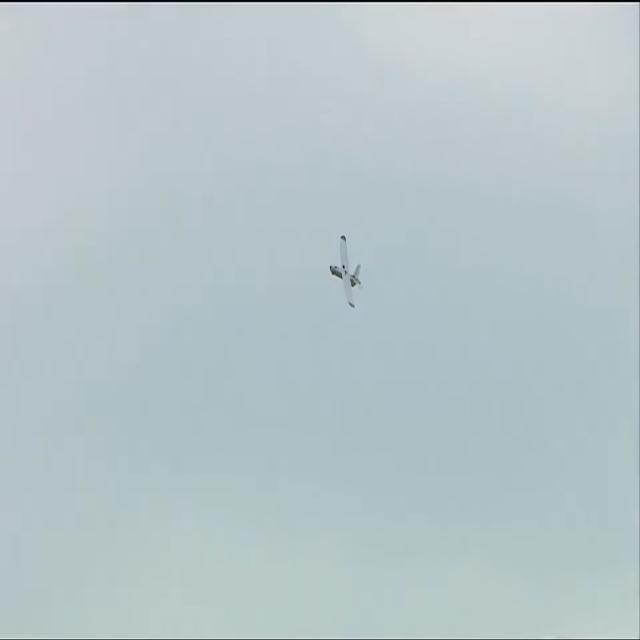iha: (328, 265, 363, 279)
